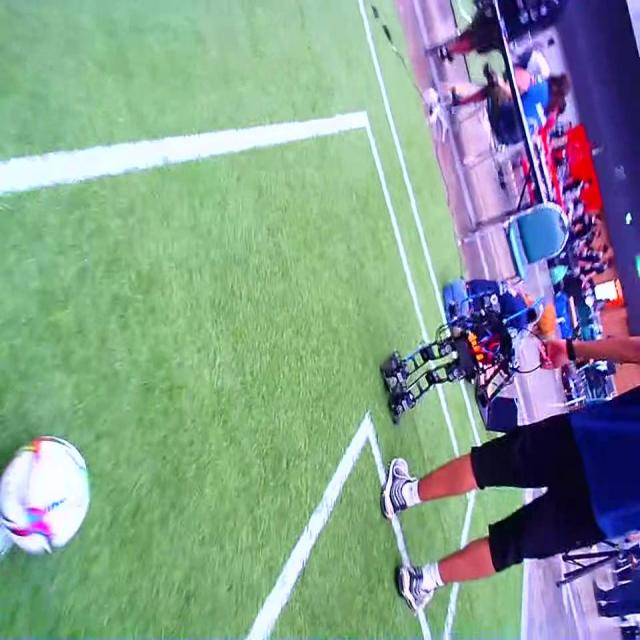ball: (0, 435, 89, 553)
